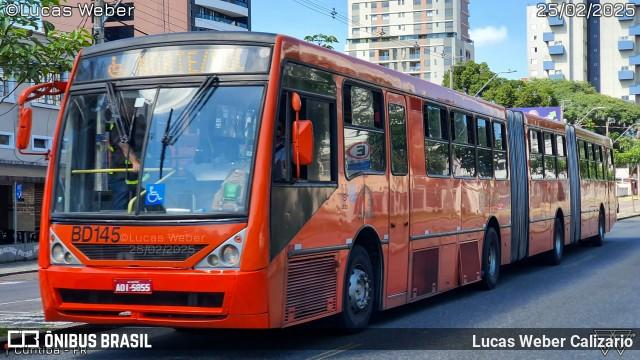NORTE SUL: (133, 45, 246, 80)
